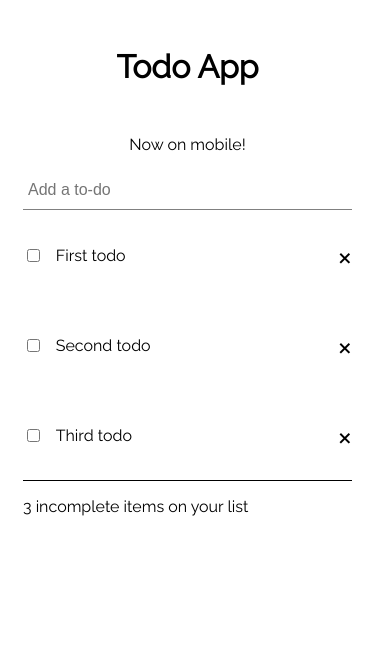
Test: ng Todo App Mobile resolution › Remaining behavior › Should substract one when a todo is deleted
Click the text with class "remove-item" in the row of "Third todo" at {"x": 345, "y": 436}, box [337, 417, 352, 454]
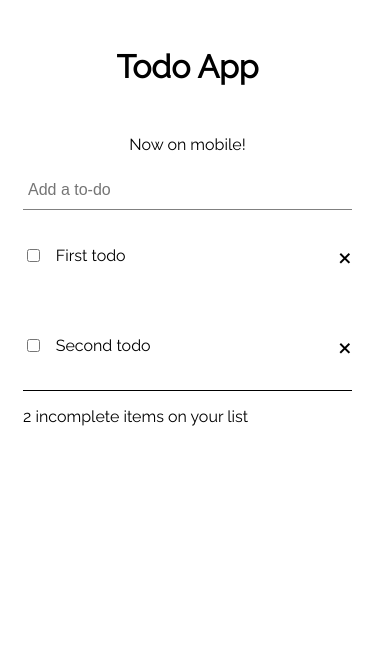
Check: the text with class "remaining-count" reads "2", box [23, 407, 31, 426]
